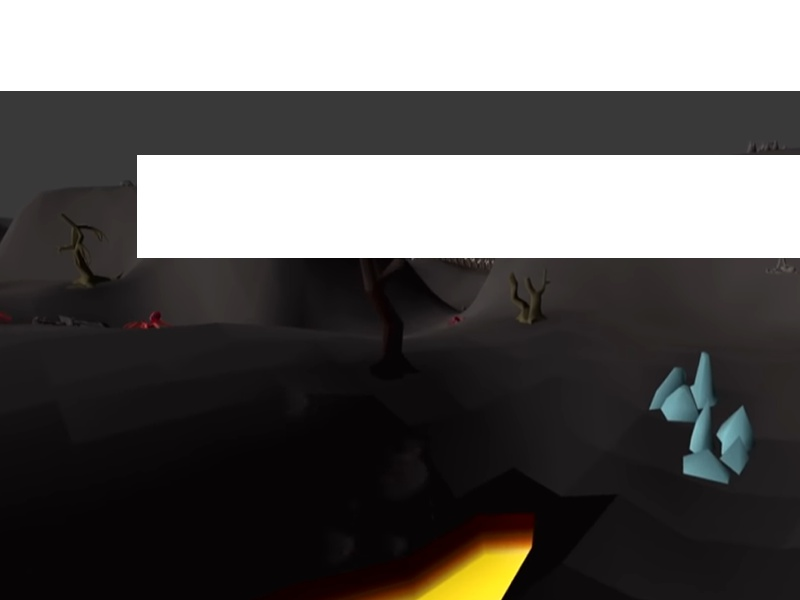rune: (679, 399, 758, 487), (644, 349, 719, 423)
